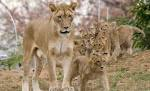lion: (18, 1, 75, 90)
